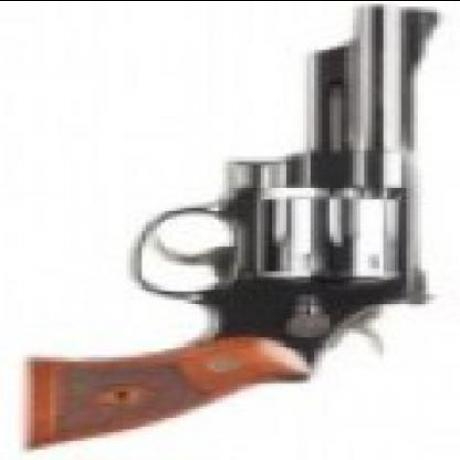weapon: (23, 4, 446, 450)
